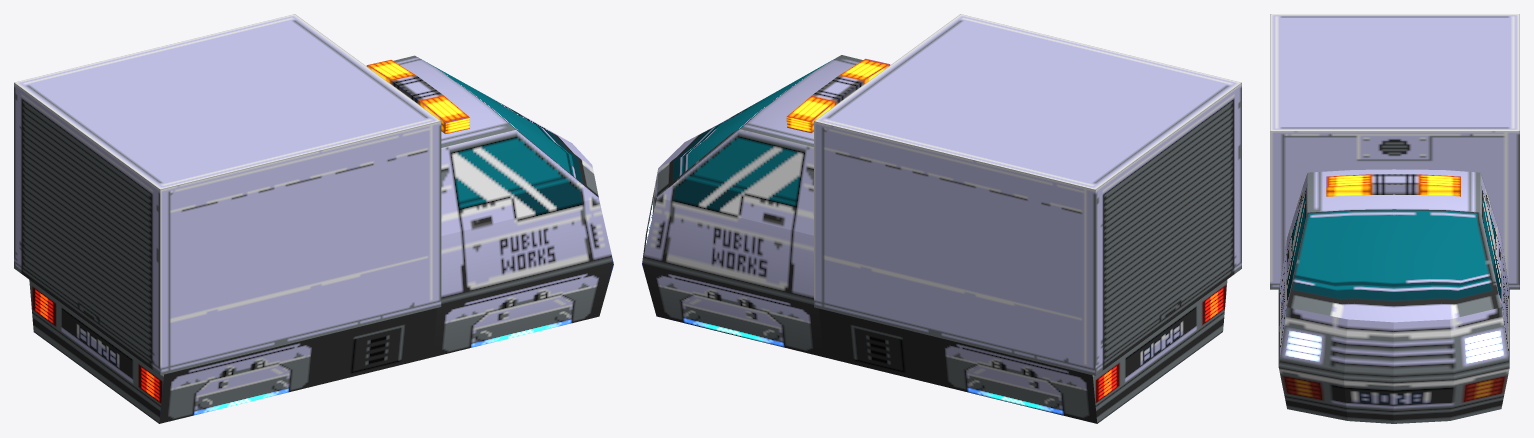
The model's file is publicWorks_boxTruck.FBX.
3 views of the same model, side by side, from view 1: azimuth 30°, elevation 25°; view 2: azimuth 150°, elevation 25°; view 3: azimuth 270°, elevation 25° (orthographic). The views are drawn at different scales.
Visible parts, largest first — view 1: truck_box, public_works; view 2: truck_box, public_works; view 3: public_works, truck_box.
Boxes of the visible parts, x1,y1,x2,y2 form: truck_box: [14, 14, 441, 375]; public_works: [29, 55, 613, 423]; truck_box: [814, 14, 1241, 375]; public_works: [642, 55, 1227, 423]; public_works: [1278, 169, 1509, 423]; truck_box: [1270, 14, 1519, 289].
Size of the model in its own units: 57.5 by 27.1 by 29.47.
2 materials, 2 textured.
